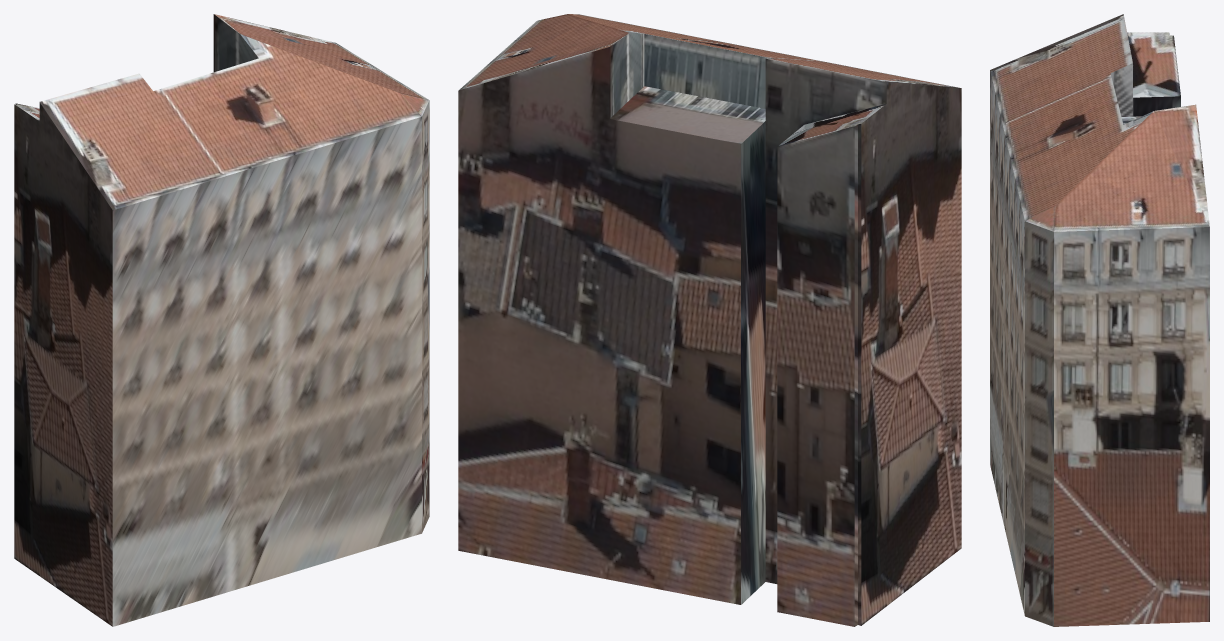
3 views of the same model, side by side, from view 1: azimuth 30°, elevation 25°; view 2: azimuth 150°, elevation 25°; view 3: azimuth 270°, elevation 25° (orthographic). The views are drawn at different scales.
Visible parts, largest first — view 1: Z_UP; view 2: Z_UP; view 3: Z_UP.
Boxes of the visible parts, left/top/right/bottom form: Z_UP: left=14, top=14, right=429, bottom=626; Z_UP: left=458, top=14, right=961, bottom=626; Z_UP: left=990, top=14, right=1209, bottom=626.
Size of the model in its own units: 19.57 by 25.46 by 11.09.
2 materials, 1 textured.
